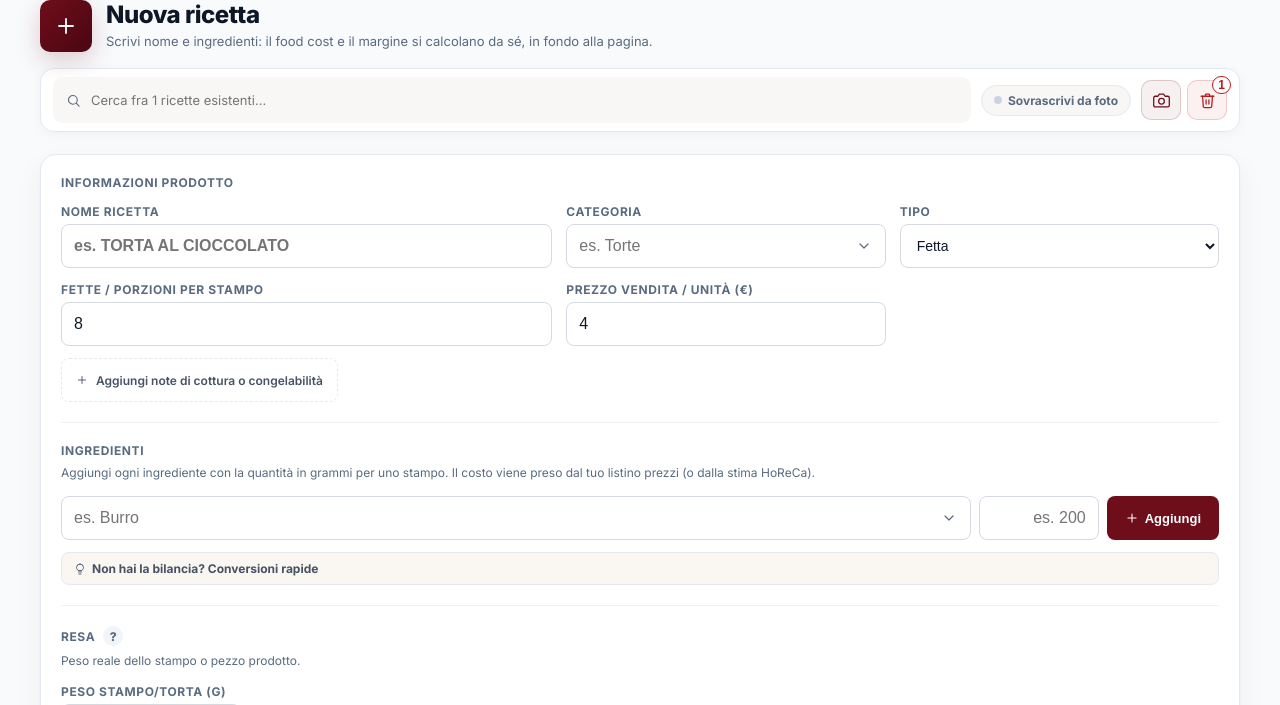
Test: Nuovo gusto - i nomi degli ingredienti mentre si aggiungono › anche l'avviso «manca il prezzo» legge il nome, non la chiave
Step 1. Type "Sciroppo segreto" into the dropdown named "nome ingrediente da aggiungere" → (516, 518), box left=61, top=496, right=971, bottom=540
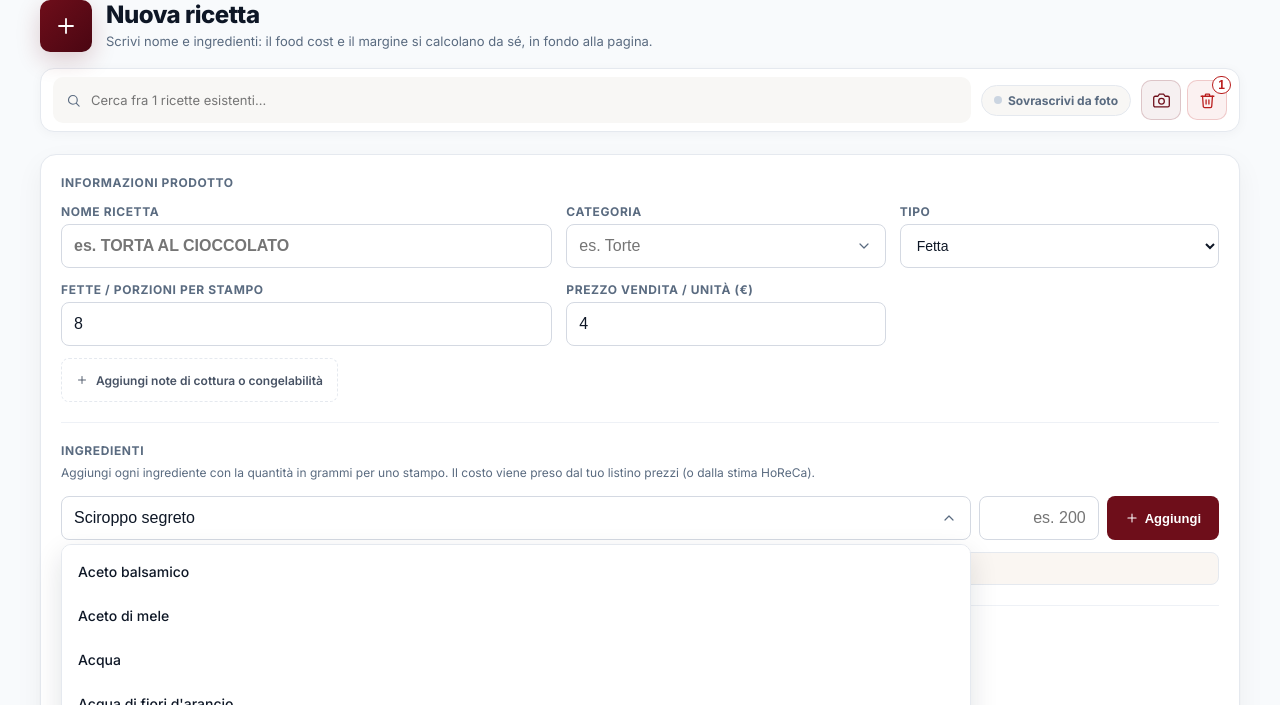
Step 2. Type "120" into the field named "grammi di ingrediente da aggiungere" → (1039, 518), box left=979, top=496, right=1099, bottom=540
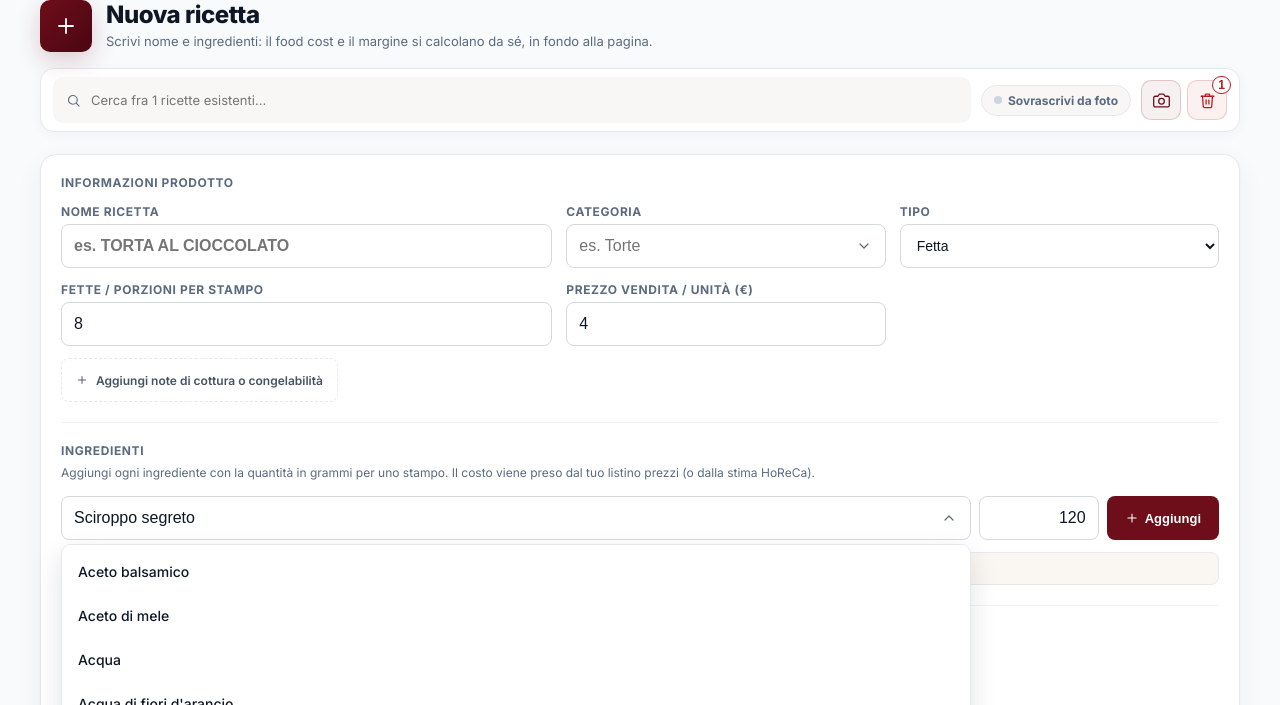
Step 3. Click the button with aria-label "Aggiungi ingrediente alla ricetta" → (1163, 518), box left=1107, top=496, right=1219, bottom=540
(page scrolled)
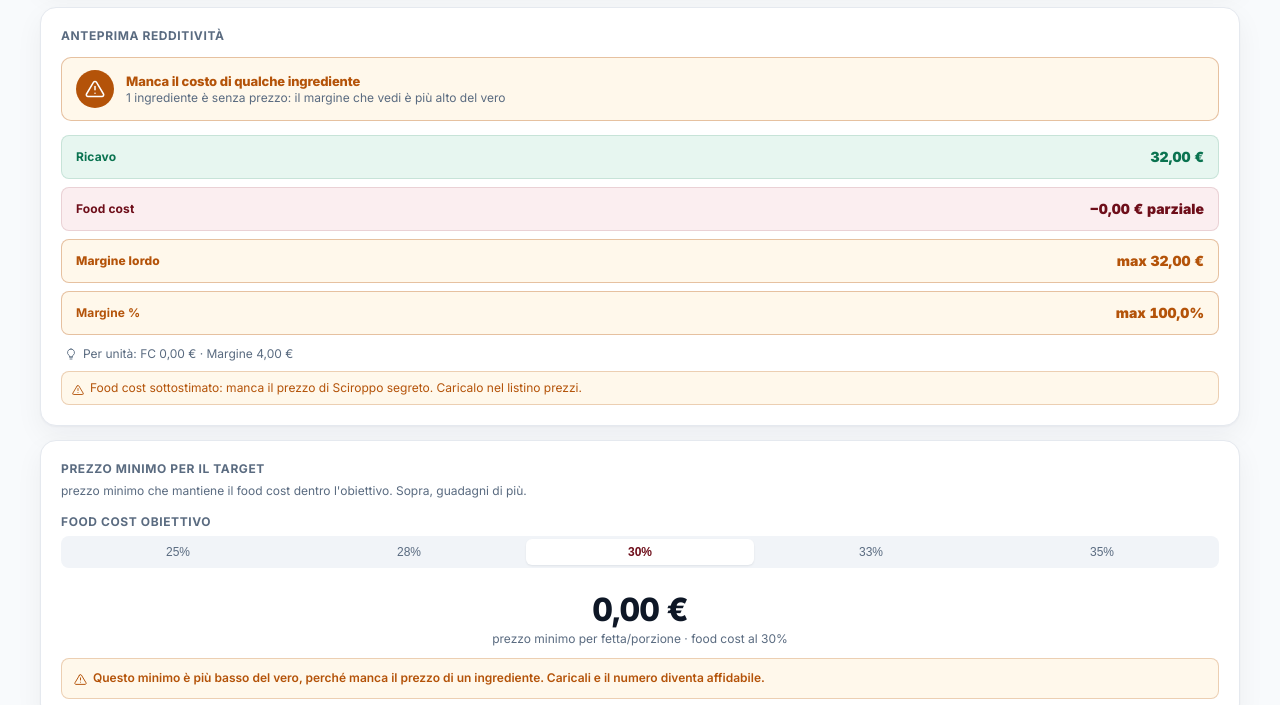
Expected: the text "manca il prezzo di" does not show "SCIROPPO SEGRETO"
Result: the text "manca il prezzo di" is shown at left=90, top=380, right=332, bottom=395
Result: the text "manca il prezzo di" shows "Sciroppo segreto" at left=332, top=380, right=430, bottom=395
